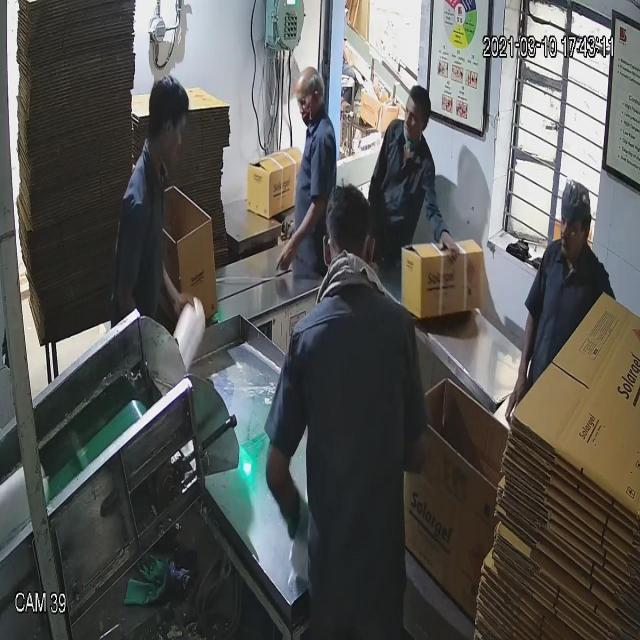No_Gloves: (40, 79, 526, 356)
